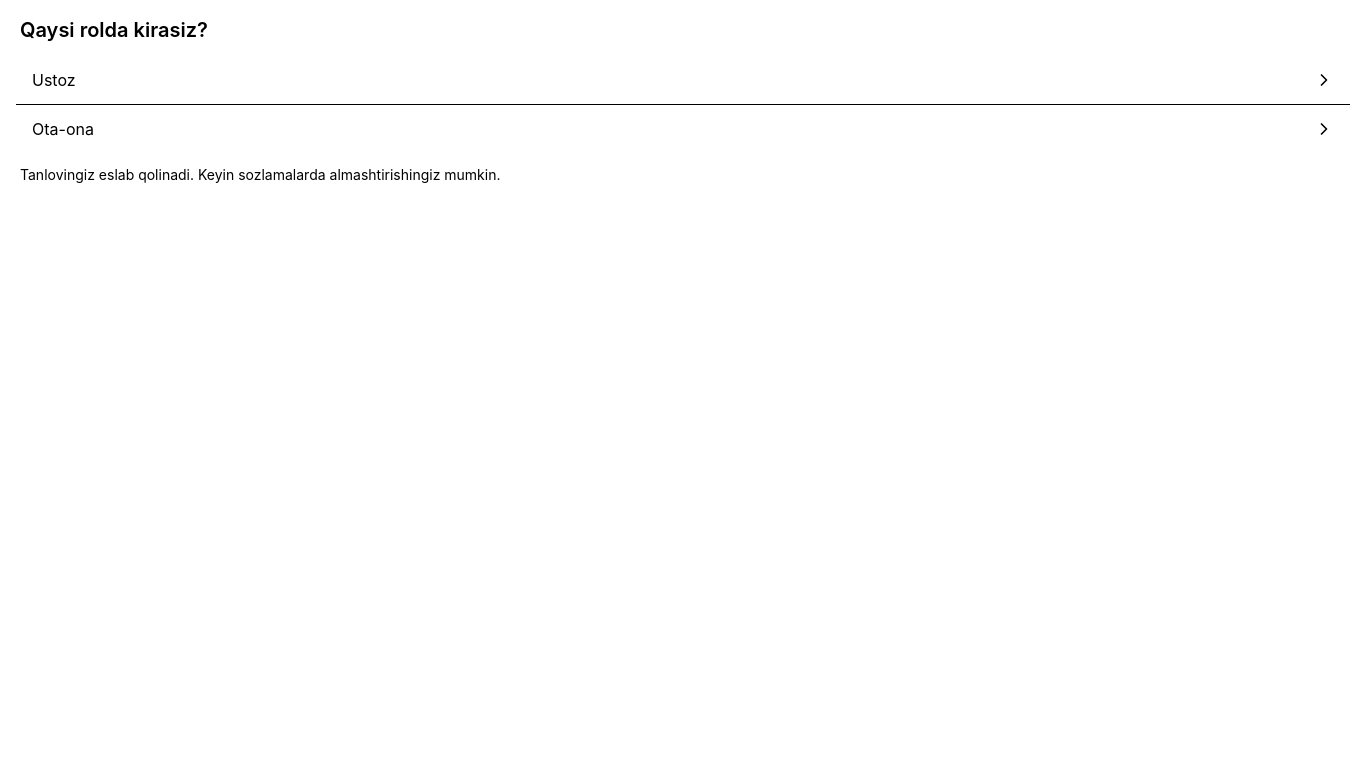
Test: Mini App qobig‘i (T-009) › C-02 → bosh sahifa → C-04 rol almashtirish (eslab qolinadi, BackButton)
This screenshot has width=1366, height=768.
Later steps or results of the test are not shown.
Click the button "Ustoz".
click(54, 80)  # box x1=16 y1=56 x2=1350 y2=104
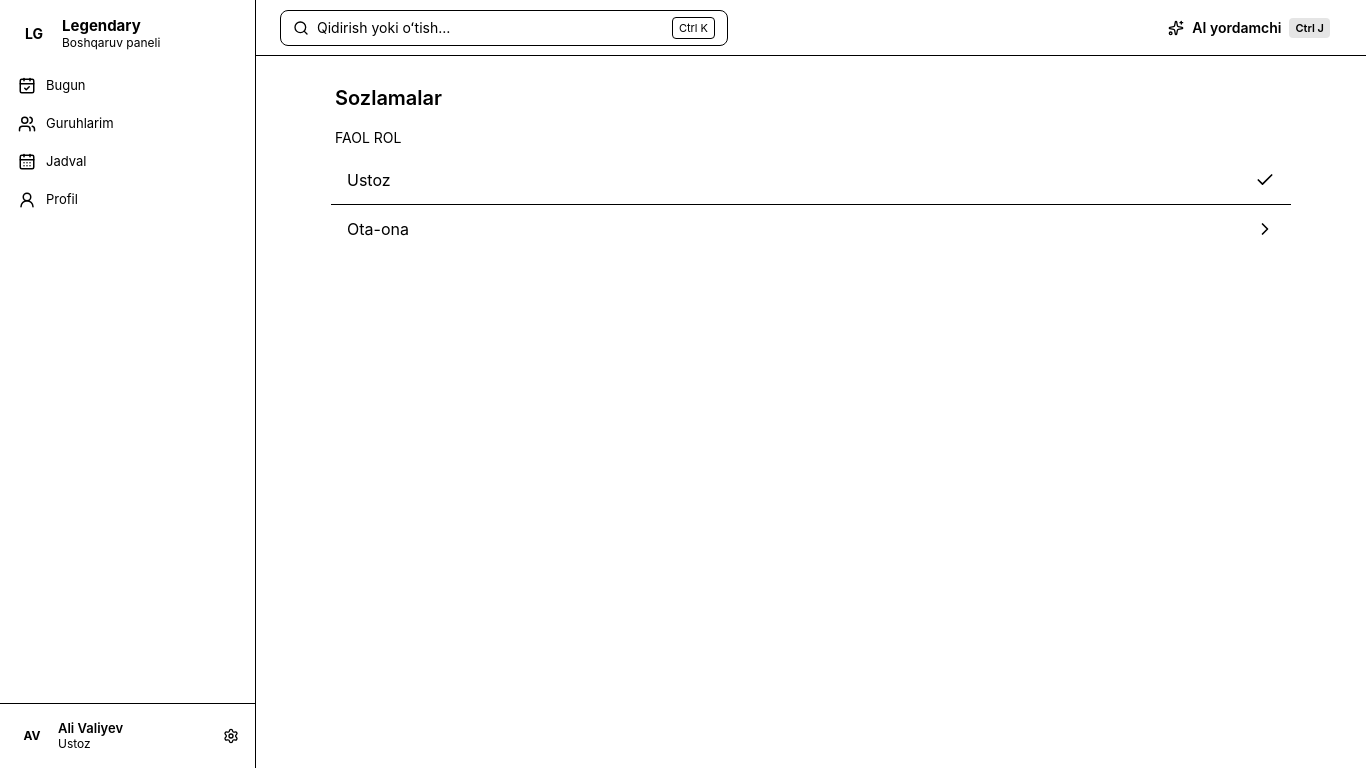
expect the heading "Sozlamalar" is shown: met, box x1=335 y1=86 x2=442 y2=110
